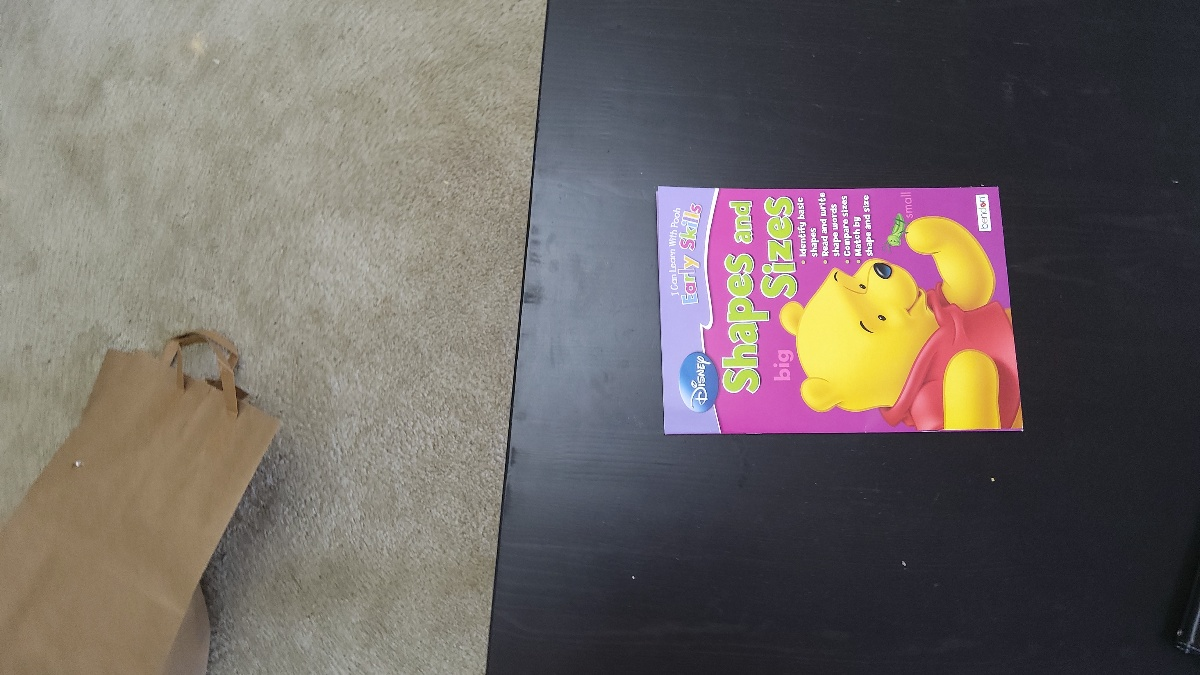book: (658, 188, 1010, 435)
